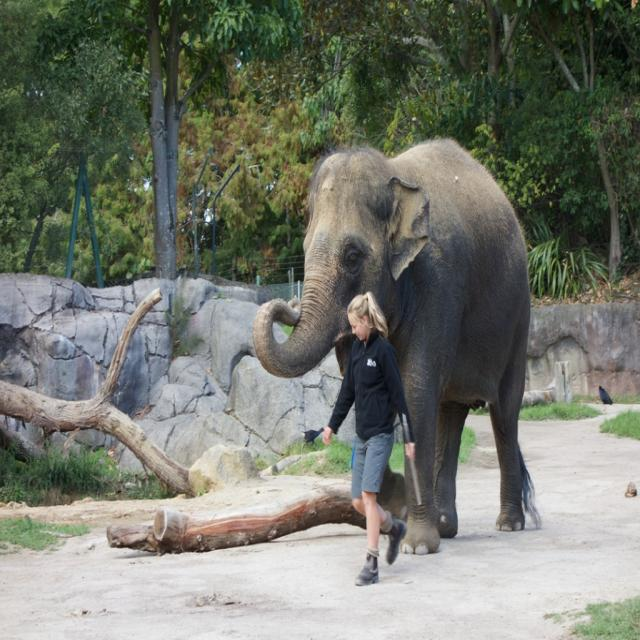elephant: (251, 132, 537, 552)
